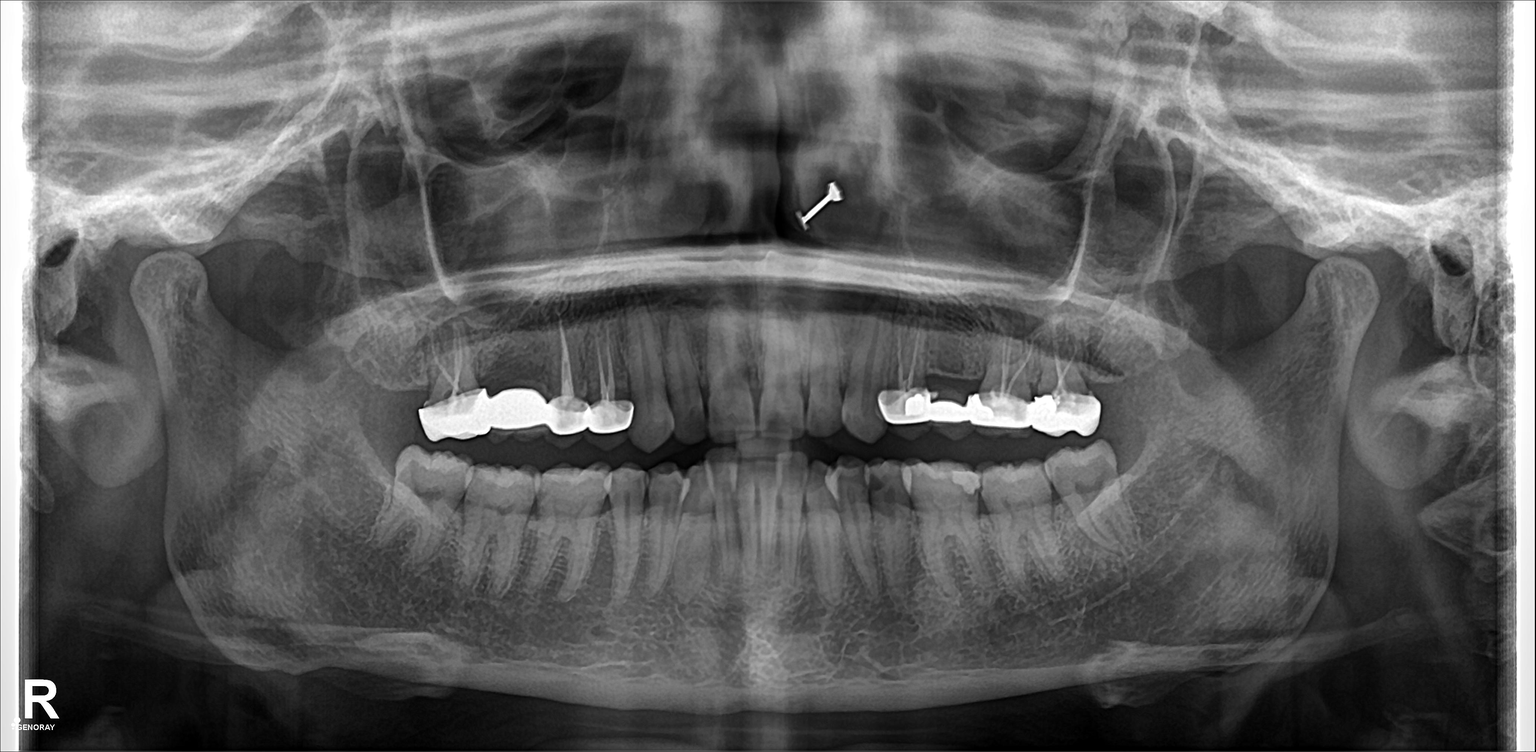Dental Caries: (855, 473, 885, 512)
Endodontically Treated Tooth: (421, 329, 490, 438), (1028, 339, 1094, 432), (585, 322, 633, 435), (890, 329, 939, 436), (967, 341, 1024, 432), (492, 335, 541, 432), (546, 320, 583, 434), (940, 339, 970, 432)
Missing Tooth: (354, 331, 422, 453), (1106, 339, 1144, 431)
